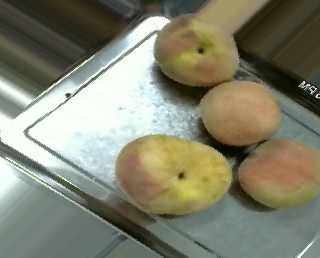Peach: (115, 133, 231, 214), (156, 6, 240, 85), (236, 136, 320, 210), (199, 80, 281, 144)
